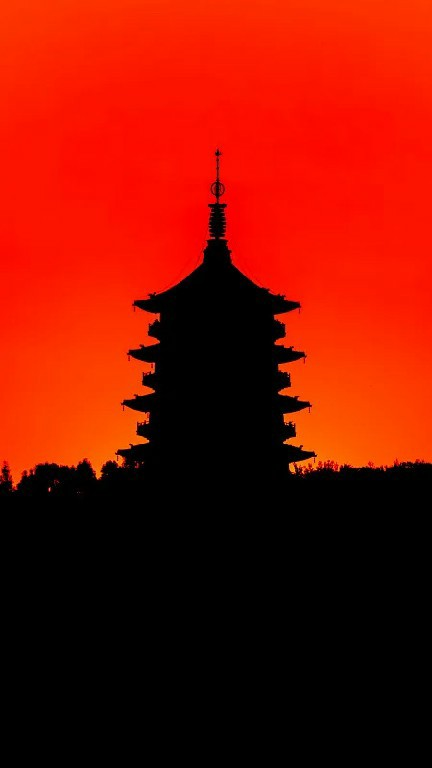Leifeng: (114, 147, 316, 478)
